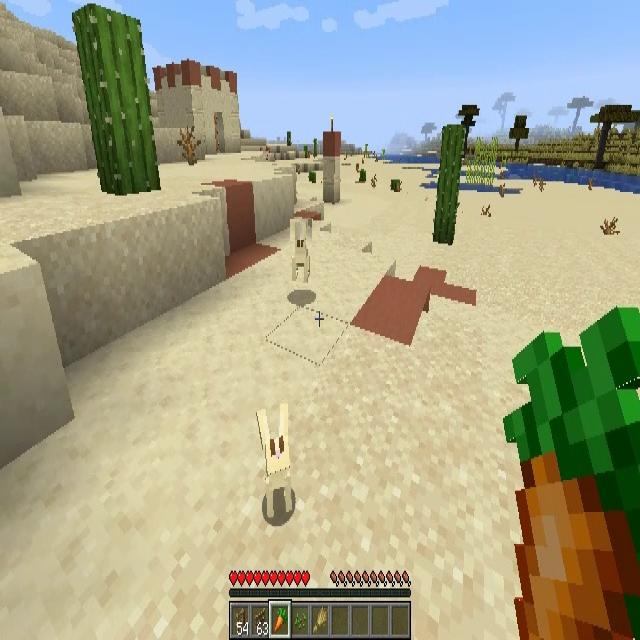rabbit: (258, 414, 296, 514), (290, 219, 312, 286)
